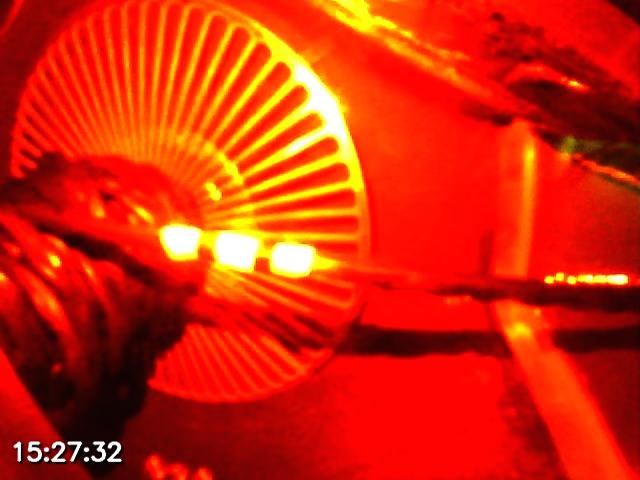white-dots: (158, 224, 316, 280)
